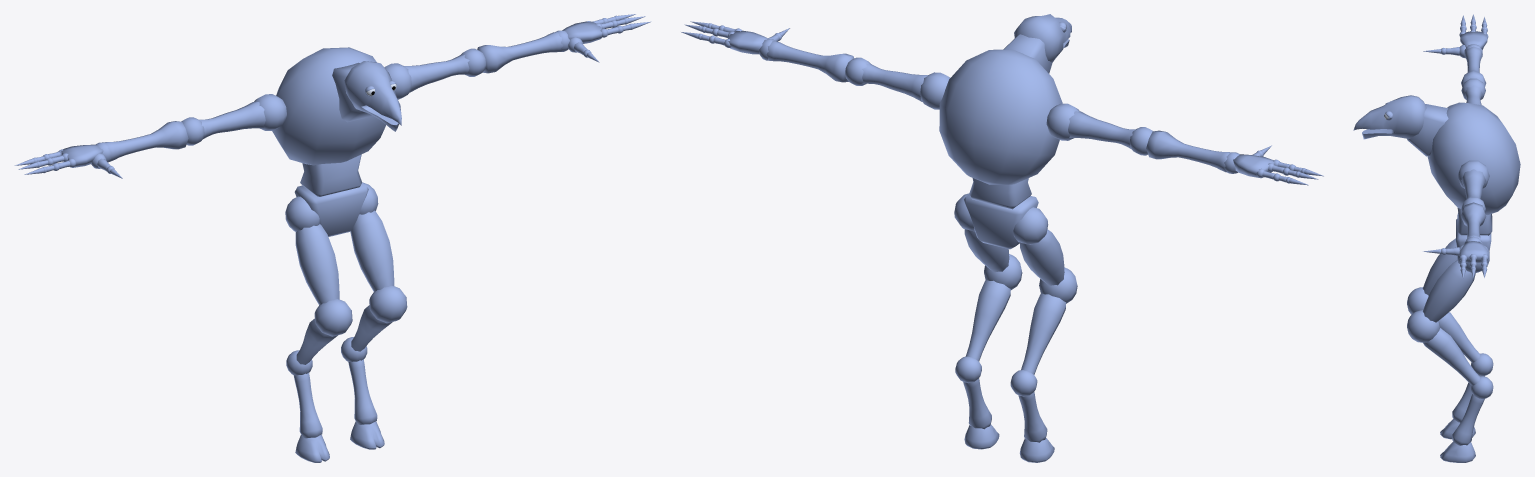
Rendered from Frostbitetestrig2.fbx.
3 renders of one model, left to right at view 1: azimuth 30°, elevation 25°; view 2: azimuth 150°, elevation 25°; view 3: azimuth 270°, elevation 25°, orthographic. The views are drawn at different scales.
Parts seen in each view (by area): view 1: Sphere.020, Vert.002, Vert.003, Vert.004, Sphere.019, Vert, Sphere.004, Cube.003, Cube.004, Vert.001, Sphere.002, Sphere.005 (+5 smaller); view 2: Sphere.020, Vert.001, Vert.003, Vert.004, Vert.002, Cube.003, Vert, Sphere.005, Sphere.019, Sphere.004, Sphere.021, Cube (+5 smaller); view 3: Sphere.020, Vert.002, Sphere.019, Vert.001, Vert.003, Sphere.004, Vert, Cube.005, Sphere.002, Vert.004, Cube, Sphere (+5 smaller).
Boxes of the visible parts, box(x1,y1,x2,y2) form: Sphere.020: box(272, 47, 385, 165); Vert.002: box(295, 210, 394, 304); Vert.003: box(102, 32, 563, 161); Vert.004: box(198, 54, 469, 138); Sphere.019: box(344, 61, 401, 131); Vert: box(293, 359, 377, 438); Sphere.004: box(314, 285, 407, 336); Cube.003: box(294, 183, 368, 236); Cube.004: box(300, 154, 361, 196); Vert.001: box(296, 305, 392, 364); Sphere.002: box(295, 421, 384, 462); Sphere.005: box(254, 63, 411, 130); Sphere.020: box(939, 49, 1062, 184); Vert.001: box(965, 280, 1065, 374); Vert.003: box(766, 41, 1230, 172); Vert.004: box(862, 63, 1135, 149); Vert.002: box(964, 229, 1064, 285); Cube.003: box(964, 194, 1038, 249); Vert: box(963, 378, 1047, 442); Sphere.005: box(920, 72, 1079, 140); Sphere.019: box(1014, 14, 1071, 62); Sphere.004: box(984, 254, 1077, 303); Sphere.021: box(954, 193, 1048, 244); Cube: box(728, 30, 1274, 178); Sphere.020: box(1427, 102, 1520, 214); Vert.002: box(1422, 238, 1475, 322); Sphere.019: box(1353, 95, 1426, 139); Vert.001: box(1423, 312, 1480, 385); Vert.003: box(1461, 46, 1486, 240); Sphere.004: box(1407, 287, 1439, 342); Vert: box(1452, 375, 1484, 445); Cube.005: box(1407, 104, 1448, 156); Sphere.002: box(1440, 419, 1475, 462); Vert.004: box(1461, 85, 1485, 198); Cube: box(1460, 31, 1487, 262); Sphere: box(1471, 353, 1493, 398).
Bounding box in the file's own units: 571 × 353 × 153.
